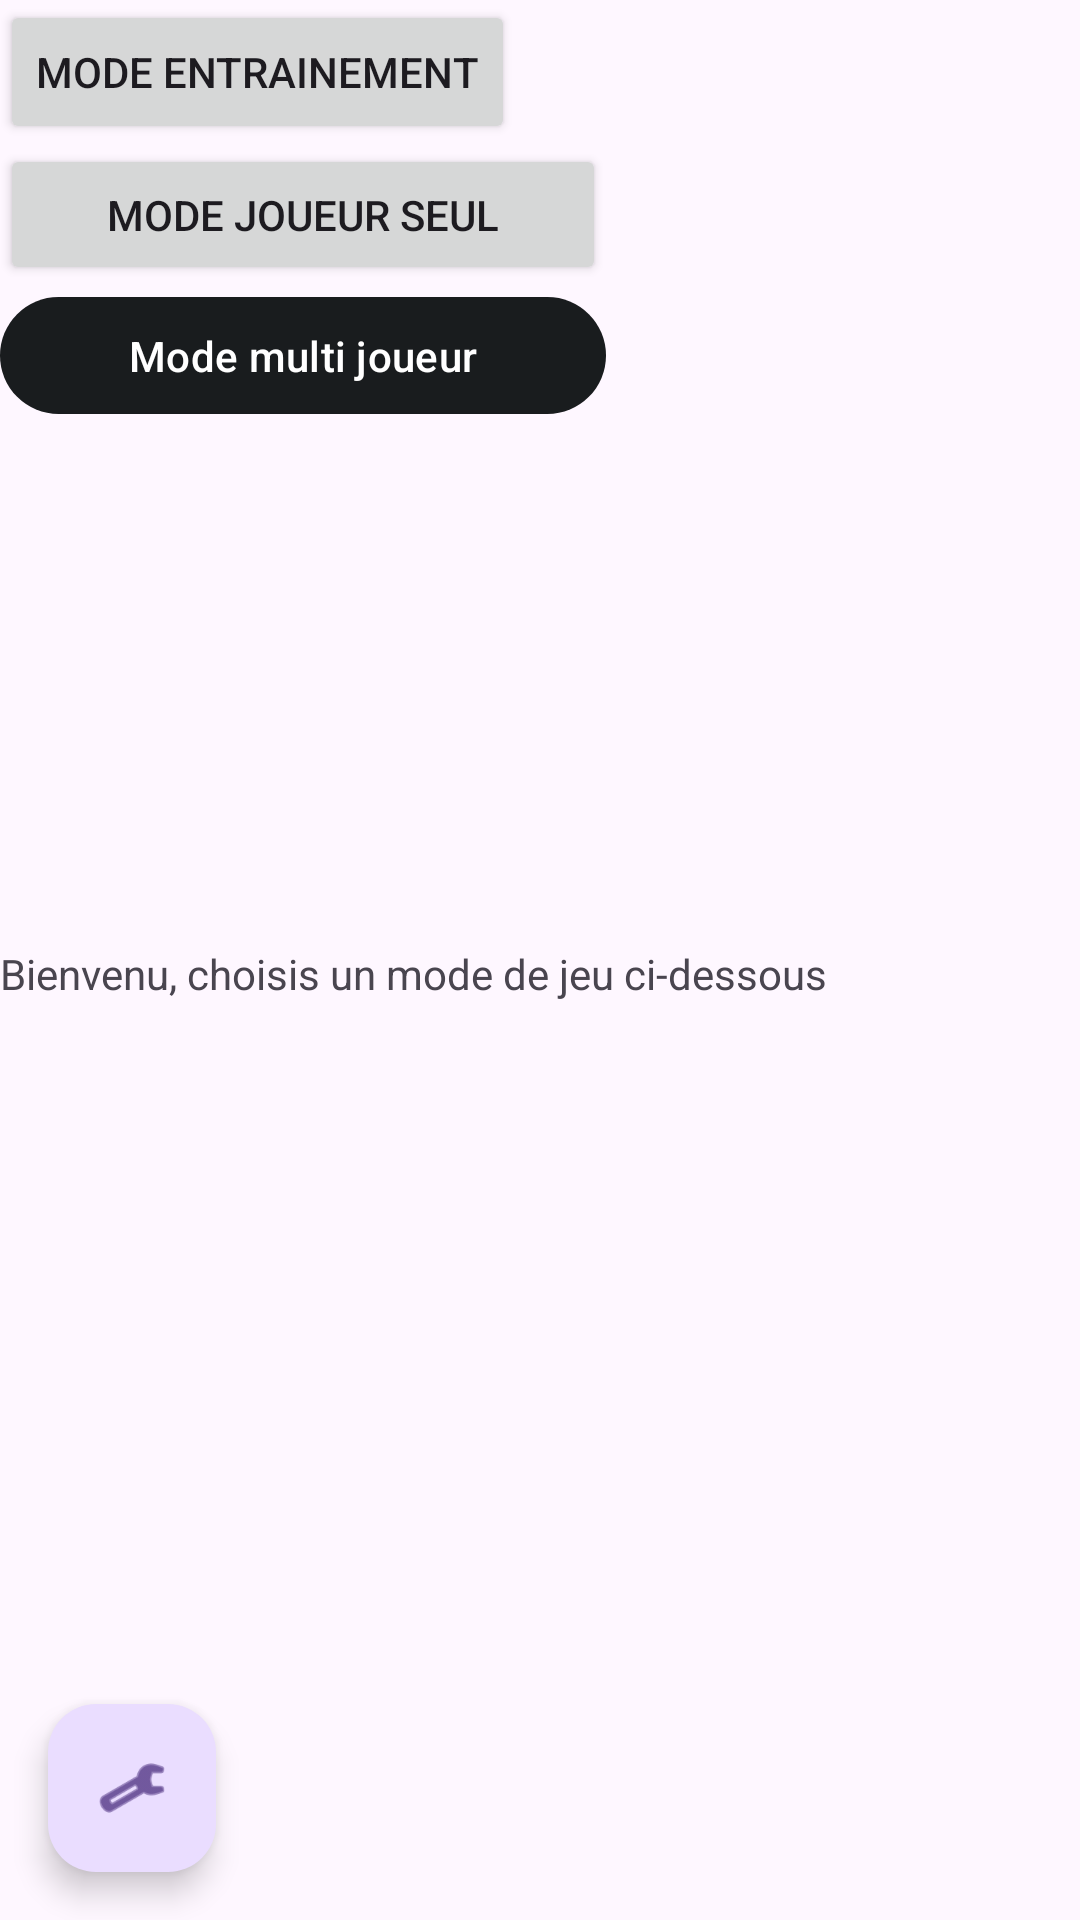

Locate icon controls on the screen. Image size 1080 x 1920, boxes as (x1, y1, x2, y2).
preferences: (48, 1704, 216, 1872)
